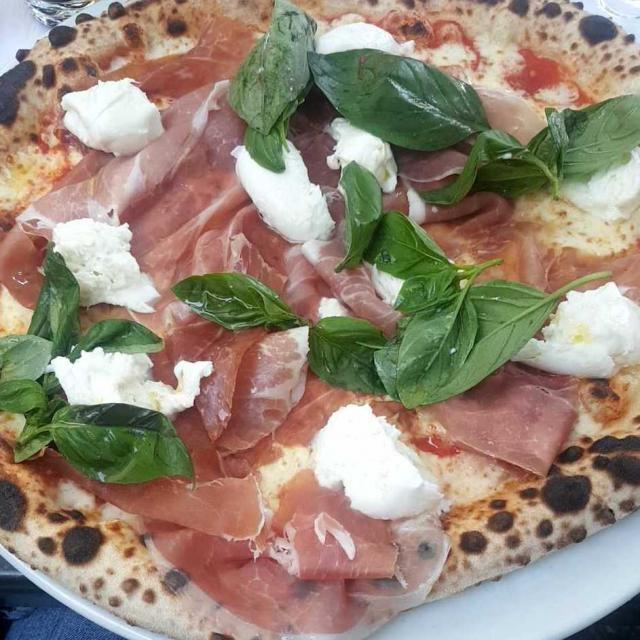basil: (4, 6, 631, 478)
ham: (15, 45, 601, 626)
pizza: (13, 12, 622, 620)
